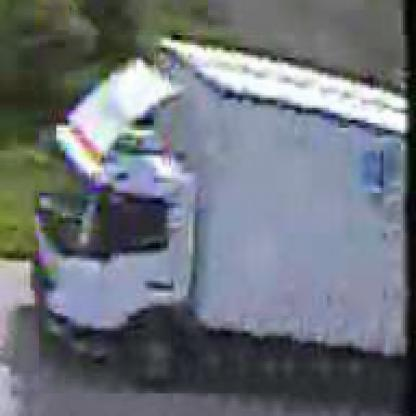truck: (40, 36, 415, 397)
